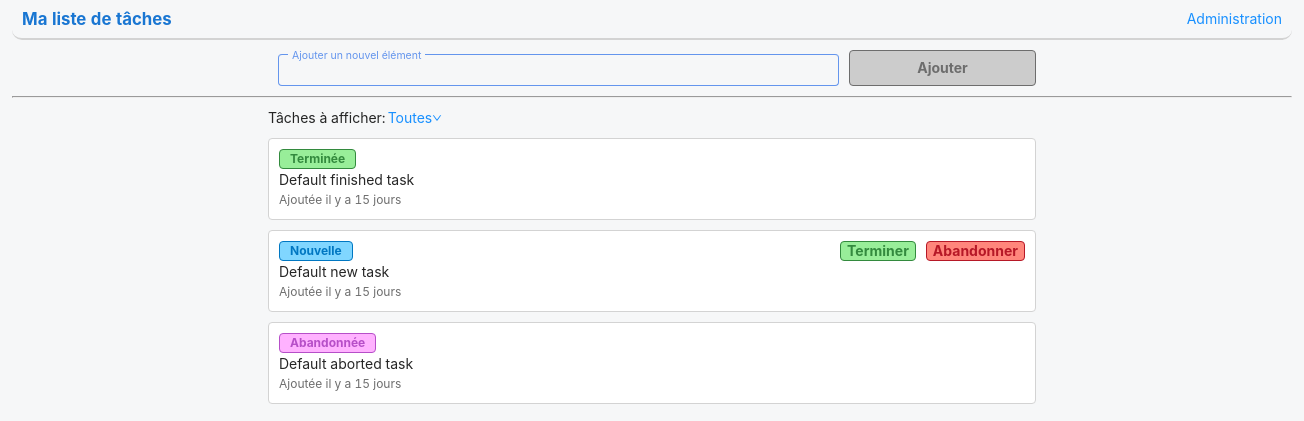
Test: Todo list app › Display default finished todo list
The width and height of the screenshot is (1304, 421).
Click the link with class "filters-dropdown" at (416, 118), box [388,107,443,129]
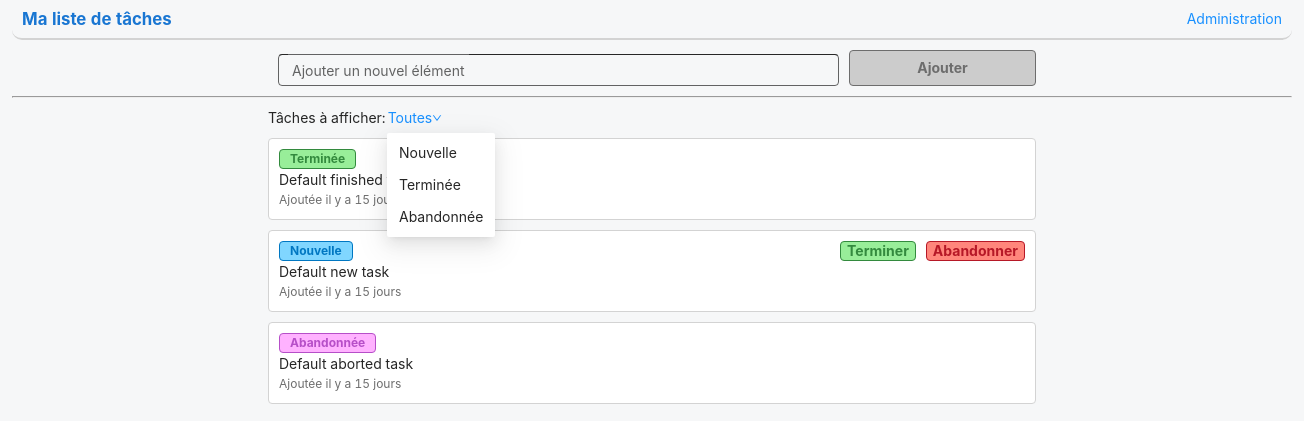
Click the link with class "finished-filter-element" at (430, 185), box [399,176,461,193]
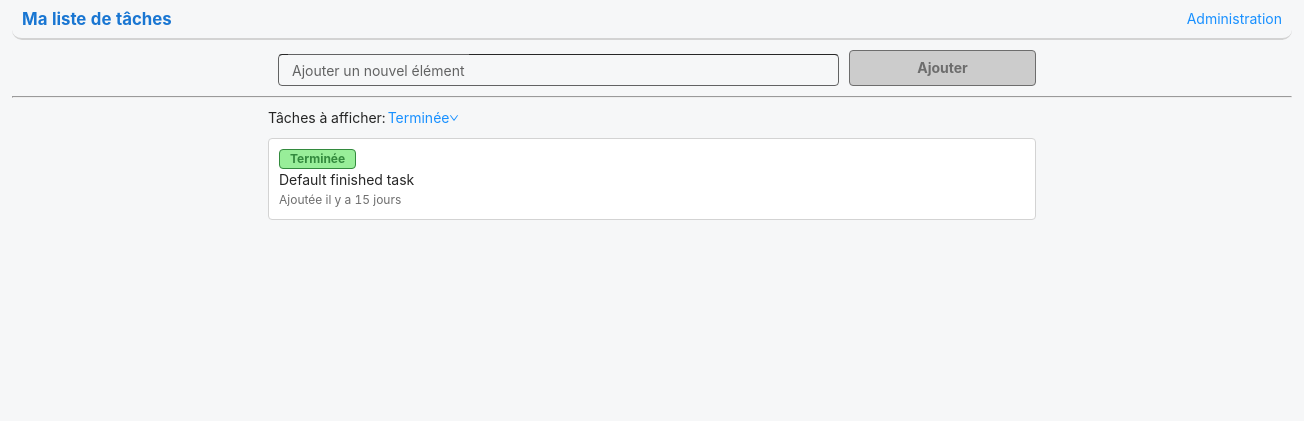
Now the number of elements with class "todo-item" is 1, box [268,138,1036,220]
